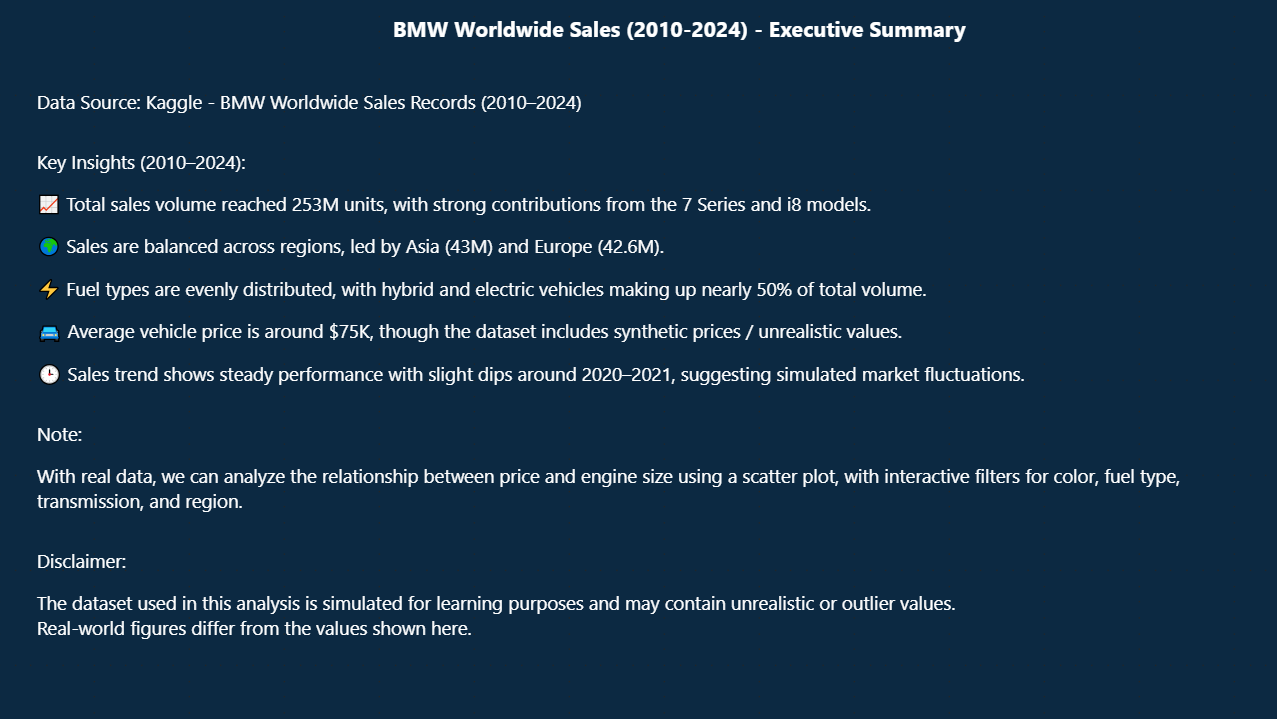

This screenshot's page, from the dashboard's own definition file:
{"tool":"powerbi","page":{"name":"Executive Summary","canvas":[1280,720],"ordinal":0},"visuals":[{"type":"textbox","box":[349.2,8.3,665,45.9],"z":0},{"type":"textbox","box":[33.4,66.8,1213.2,628.9],"z":1000}]}

Visuals, with their boxes in screenshot pixels (x1, y1, x2, y2), scaled from the page's 1280x720 canvas onto the 1277x719 screenshot:
textbox: detection(348, 8, 1012, 54)
textbox: detection(33, 67, 1244, 695)
